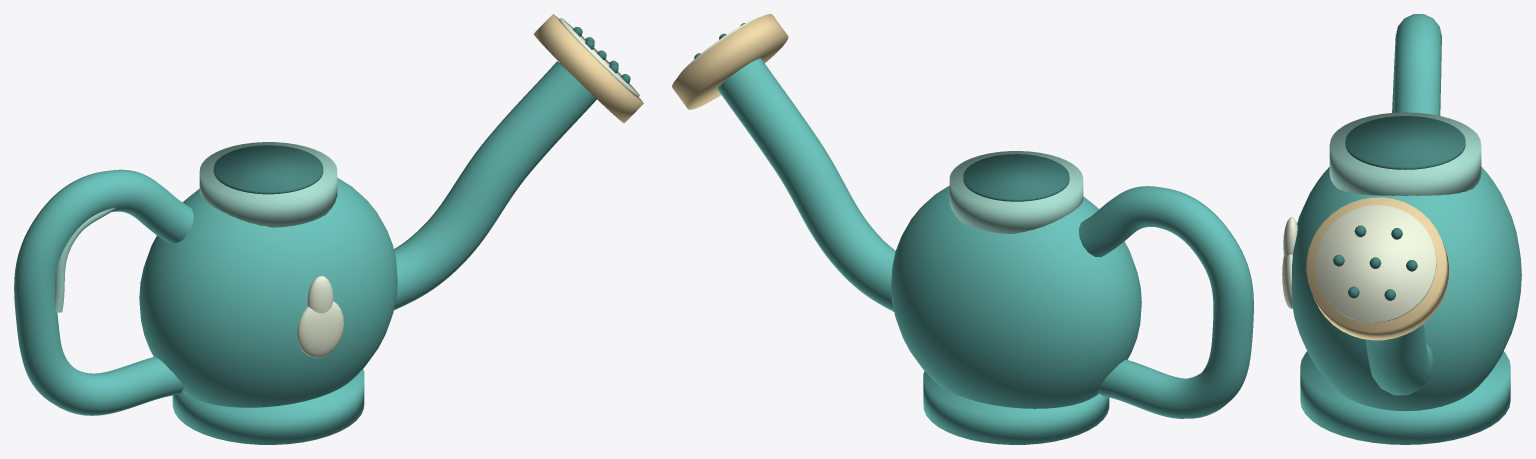
Rendered from tool_watering_can.glb.
3 renders of one model, left to right at view 1: azimuth 30°, elevation 25°; view 2: azimuth 150°, elevation 25°; view 3: azimuth 270°, elevation 25°, orthographic. The views are drawn at different scales.
Visible parts, largest first — view 1: Watering can | round tank, Watering can | loop handle, Watering can | rising spout, Watering can | stable base, Watering can | filling collar, Watering can | dark opening, Watering can | sprinkler rose, Watering can | drop round, Watering can | handle highlight, Watering can | drop tip, Watering can | rose face; view 2: Watering can | round tank, Watering can | loop handle, Watering can | rising spout, Watering can | stable base, Watering can | filling collar, Watering can | sprinkler rose, Watering can | dark opening; view 3: Watering can | round tank, Watering can | rose face, Watering can | stable base, Watering can | filling collar, Watering can | dark opening, Watering can | sprinkler rose, Watering can | loop handle, Watering can | rising spout, Watering can | drop round, Watering can | drop tip.
Boxes of the visible parts, left/top/right/bottom form: Watering can | round tank: left=139, top=178, right=397, bottom=407; Watering can | loop handle: left=14, top=169, right=193, bottom=415; Watering can | rising spout: left=394, top=61, right=596, bottom=309; Watering can | stable base: left=172, top=369, right=364, bottom=444; Watering can | filling collar: left=199, top=142, right=337, bottom=227; Watering can | dark opening: left=213, top=145, right=323, bottom=194; Watering can | sprinkler rose: left=534, top=14, right=643, bottom=123; Watering can | drop round: left=297, top=301, right=343, bottom=357; Watering can | handle highlight: left=54, top=207, right=116, bottom=312; Watering can | drop tip: left=307, top=276, right=333, bottom=313; Watering can | rose face: left=559, top=18, right=639, bottom=97; Watering can | round tank: left=891, top=185, right=1141, bottom=408; Watering can | loop handle: left=1079, top=186, right=1253, bottom=418; Watering can | rising spout: left=717, top=58, right=895, bottom=311; Watering can | stable base: left=923, top=371, right=1109, bottom=444; Watering can | filling collar: left=949, top=151, right=1083, bottom=233; Watering can | sprinkler rose: left=672, top=14, right=788, bottom=109; Watering can | dark opening: left=963, top=154, right=1069, bottom=201; Watering can | round tank: left=1291, top=167, right=1521, bottom=411; Watering can | rose face: left=1315, top=205, right=1436, bottom=322; Watering can | stable base: left=1300, top=351, right=1510, bottom=444; Watering can | filling collar: left=1329, top=112, right=1481, bottom=195; Watering can | dark opening: left=1345, top=116, right=1465, bottom=169; Watering can | sprinkler rose: left=1306, top=197, right=1449, bottom=340; Watering can | loop handle: left=1392, top=14, right=1441, bottom=115; Watering can | rising spout: left=1365, top=324, right=1433, bottom=395; Watering can | drop round: left=1282, top=254, right=1292, bottom=308; Watering can | drop tip: left=1283, top=217, right=1297, bottom=256.
Size of the model in its own units: 2.06 by 1.06 by 0.649.
